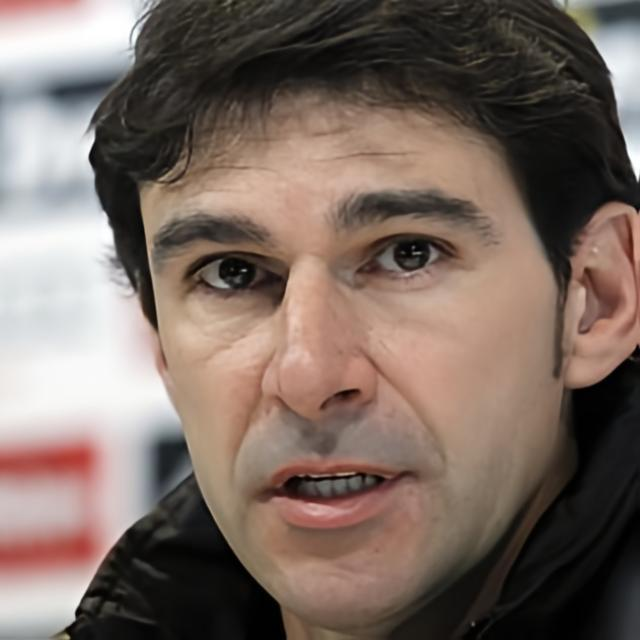disgust: (139, 68, 560, 630)
